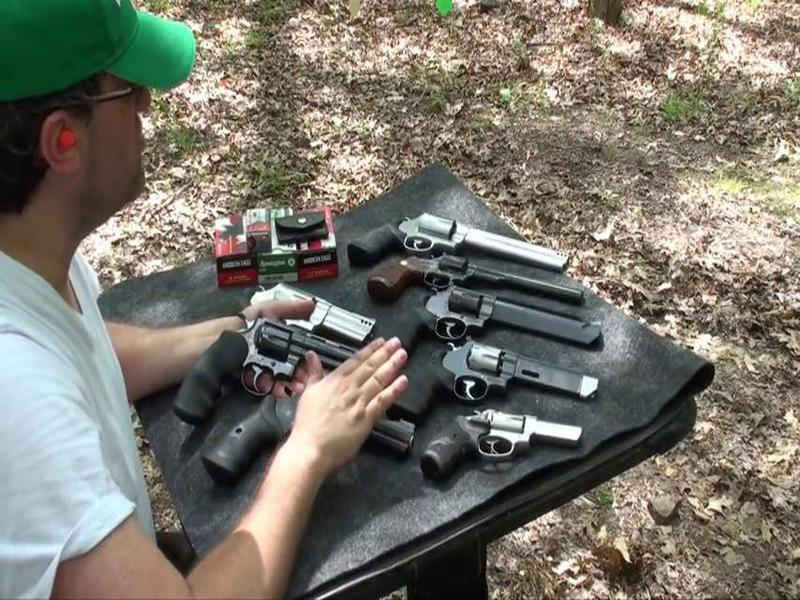Revolver: (146, 304, 374, 430)
